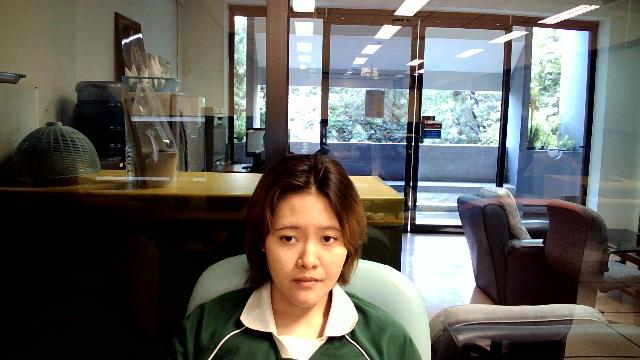fokus: (253, 184, 365, 302)
